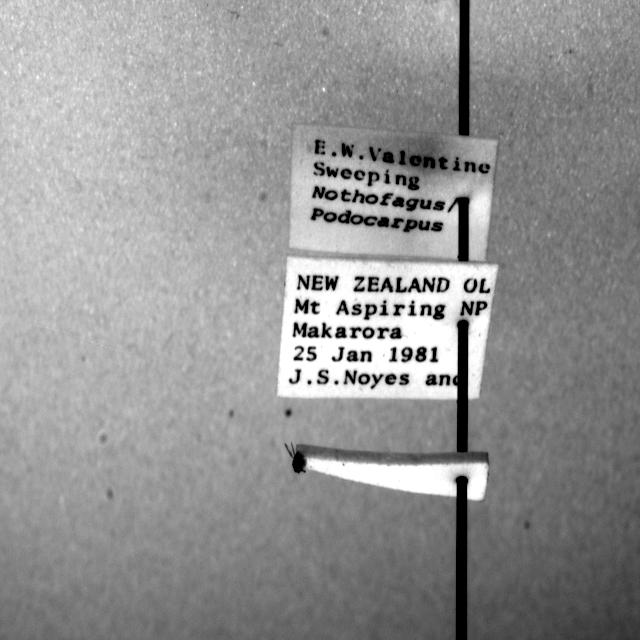typed_label: (278, 257, 498, 399), (289, 124, 498, 261)
